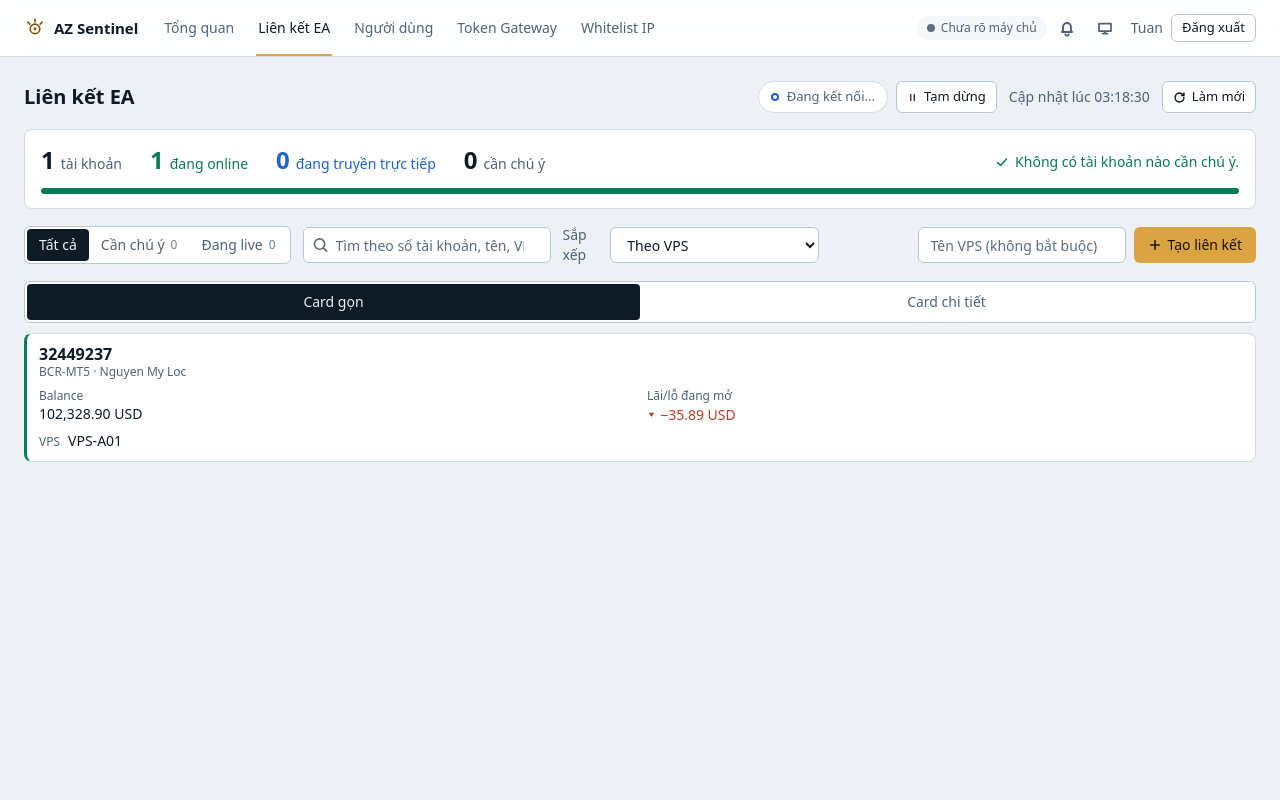
Liên kết EA trên điện thoại: thẻ gọn và thẻ chi tiết › bấm Card chi tiết thì ra đủ thông tin như trước và nhớ lựa chọn
The width and height of the screenshot is (1280, 800).
Click the button "Card chi tiết" at (946, 302), box [640,284,1253,320]
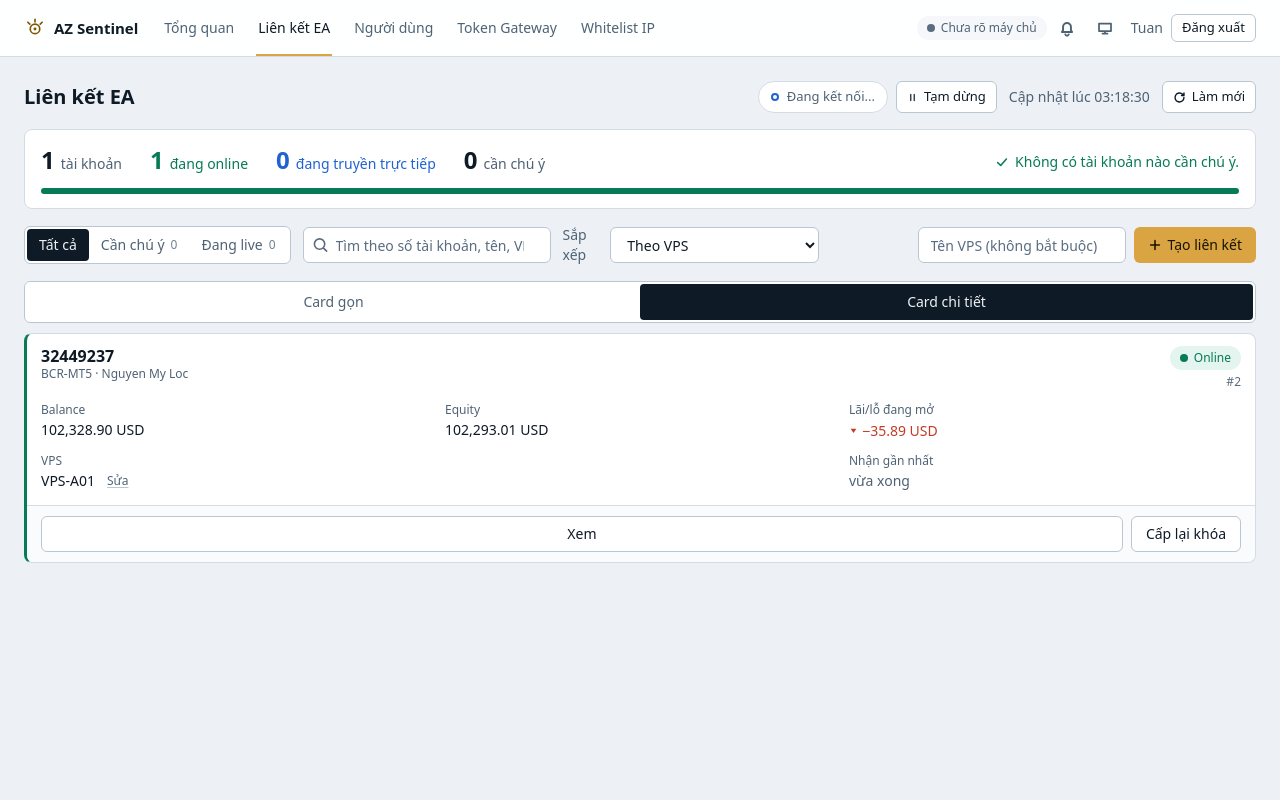
Expected: the text "Equity" is shown, [445,401,480,418]
Expected: the text "Nhận gần nhất" is shown, [849,452,933,468]
Expected: the link "Xem" is shown, [41,516,1123,552]
